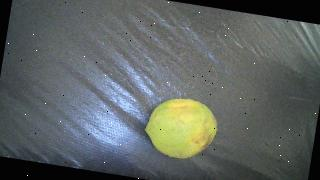DESECHO: (141, 93, 221, 163)
